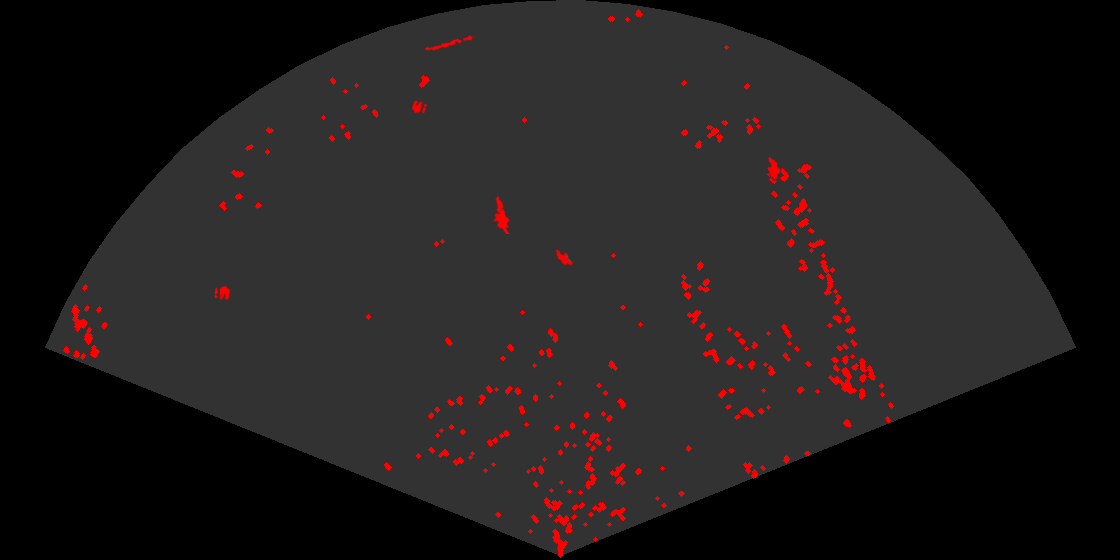AUV: (551, 248, 575, 267), (766, 155, 782, 182)
ball: (213, 284, 231, 301), (410, 99, 429, 115)
chain: (422, 34, 475, 52)
frogman: (492, 195, 512, 234)
